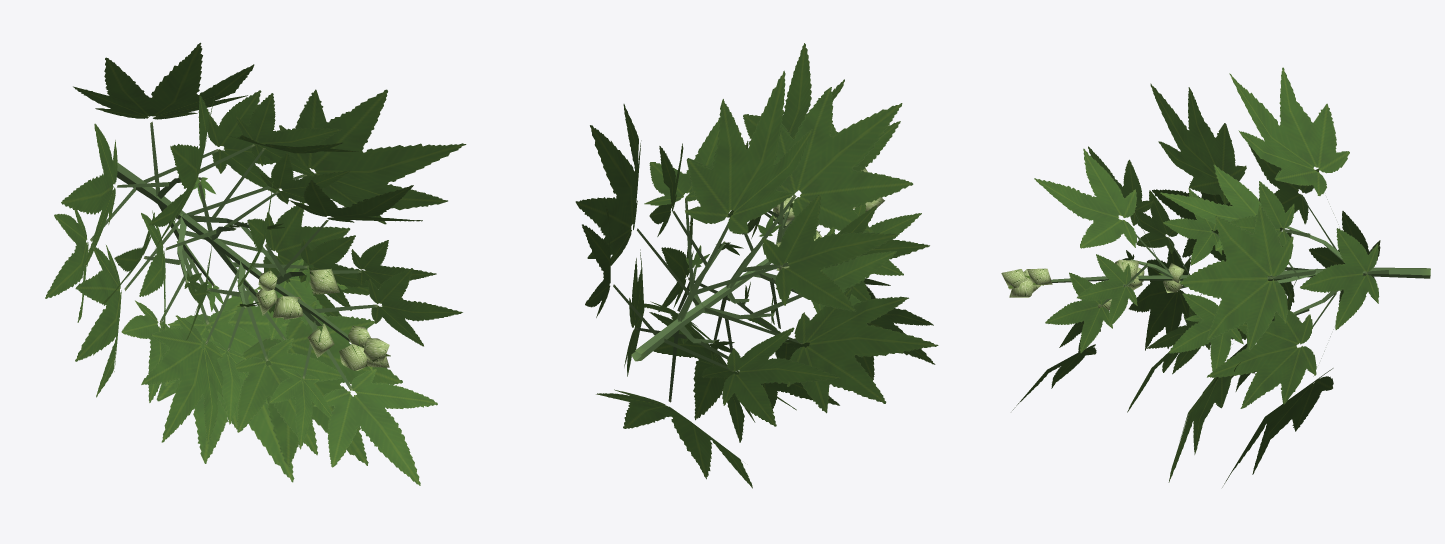
The model's file is p_male_hybrid_preflower_c0_cards.obj.
3 renders of one model, left to right at view 1: azimuth 30°, elevation 25°; view 2: azimuth 150°, elevation 25°; view 3: azimuth 270°, elevation 25°, orthographic. The views are drawn at different scales.
Bounding box in the file's own units: 1.42 × 1.56 × 1.4.
1 material, 1 textured.
